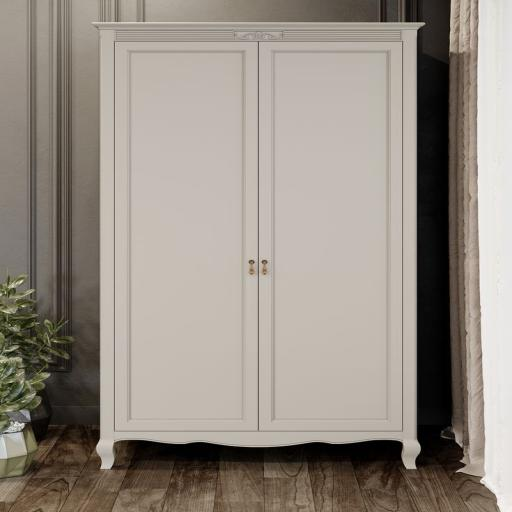car: (95, 23, 424, 469)
